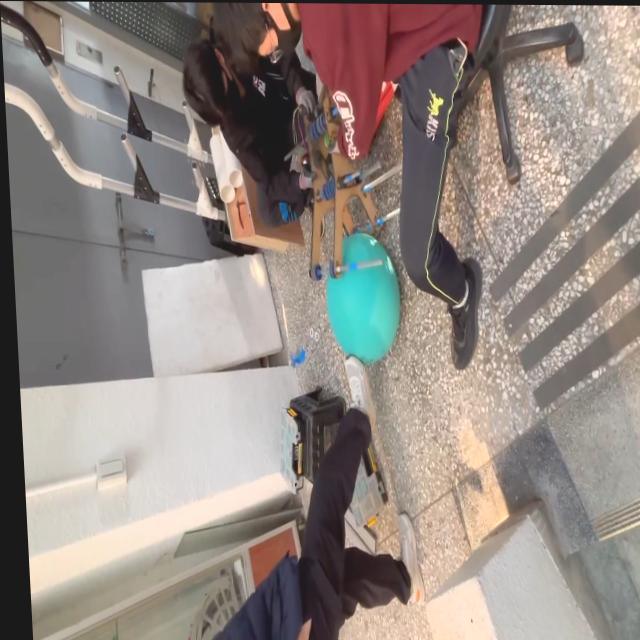ALGAE: (322, 230, 405, 366)
